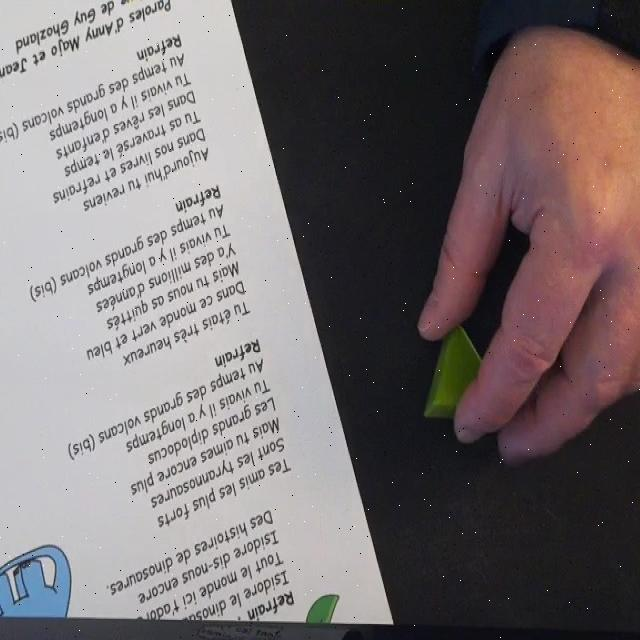triangle: (423, 312, 508, 425)
